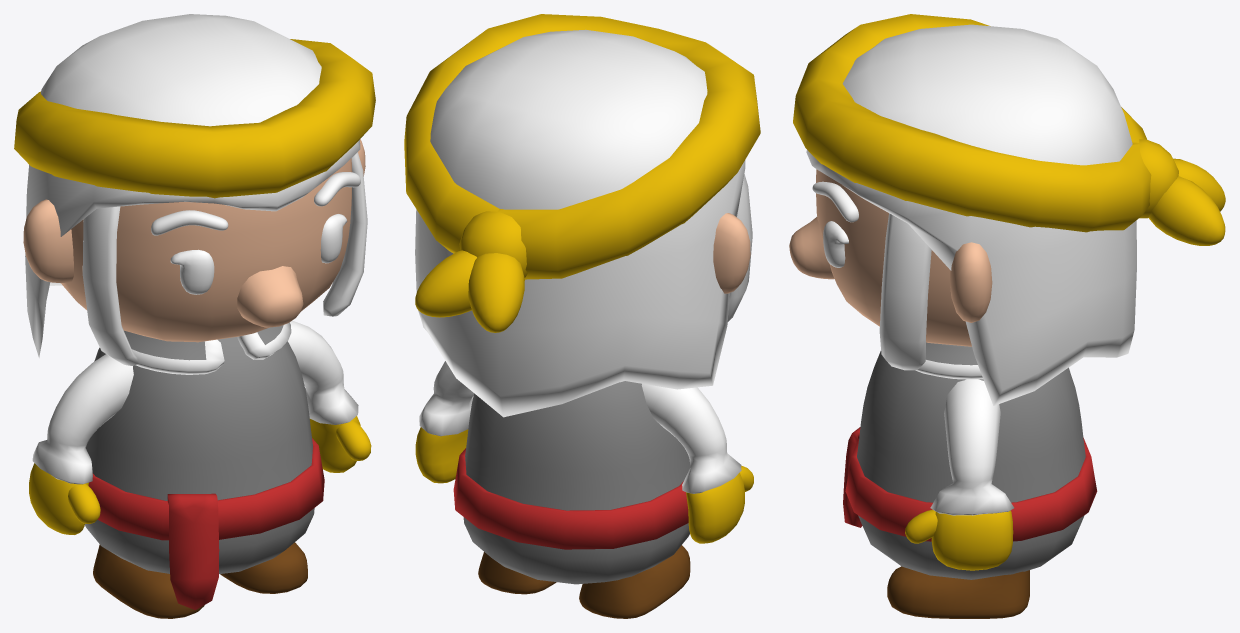
Rendered from medic.fbx.
The picture shows the model from 3 angles, left to right: view 1: azimuth 30°, elevation 25°; view 2: azimuth 150°, elevation 25°; view 3: azimuth 270°, elevation 25°; orthographic projection.
Parts seen in each view (by area): view 1: Pirate_Head6, Pirate2_Body, Pirate2_Right_Arm, Pirate2_Right_Arm.001, Pirate2_Right_Foot, Pirate2_Left_Foot; view 2: Pirate_Head6, Pirate2_Body, Pirate2_Right_Arm, Pirate2_Right_Arm.001, Pirate2_Right_Foot, Pirate2_Left_Foot; view 3: Pirate_Head6, Pirate2_Body, Pirate2_Right_Arm.001, Pirate2_Left_Foot.
Boxes of the visible parts, <box> form: Pirate_Head6: <box>14,14,375,365</box>; Pirate2_Body: <box>85,322,324,610</box>; Pirate2_Right_Arm: <box>29,354,133,534</box>; Pirate2_Right_Arm.001: <box>288,320,371,472</box>; Pirate2_Right_Foot: <box>93,544,204,618</box>; Pirate2_Left_Foot: <box>220,542,307,593</box>; Pirate_Head6: <box>404,14,760,417</box>; Pirate2_Body: <box>453,380,690,584</box>; Pirate2_Right_Arm: <box>641,383,753,543</box>; Pirate2_Right_Arm.001: <box>415,361,473,483</box>; Pirate2_Right_Foot: <box>579,545,690,618</box>; Pirate2_Left_Foot: <box>478,552,556,594</box>; Pirate_Head6: <box>789,14,1225,405</box>; Pirate2_Body: <box>843,342,1097,579</box>; Pirate2_Right_Arm.001: <box>905,379,1014,570</box>; Pirate2_Left_Foot: <box>887,566,1029,618</box>.
Size of the model in its own units: 179 by 273 by 204.
